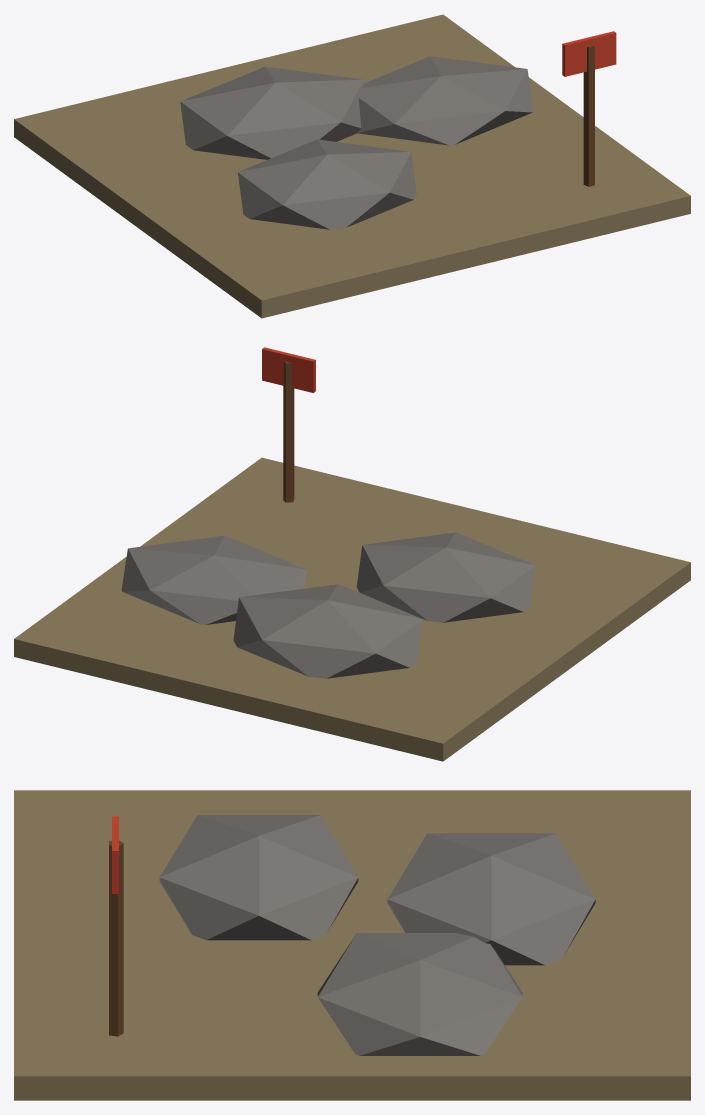
Rendered from Deposit_Copper_Depleted.fbx.
3 renders of one model, top to bottom at view 1: azimuth 30°, elevation 25°; view 2: azimuth 150°, elevation 25°; view 3: azimuth 270°, elevation 25°, orthographic. The views are drawn at different scales.
Visible parts, largest first — view 1: Deposit_Copper_Depleted_Body; view 2: Deposit_Copper_Depleted_Body; view 3: Deposit_Copper_Depleted_Body.
Part boxes in pixels (box(x1,y1,x2,y2)): Deposit_Copper_Depleted_Body: box(14, 14, 690, 318); Deposit_Copper_Depleted_Body: box(14, 347, 690, 761); Deposit_Copper_Depleted_Body: box(14, 790, 690, 1100).
Size of the model in its own units: 1 by 0.3771 by 1.
